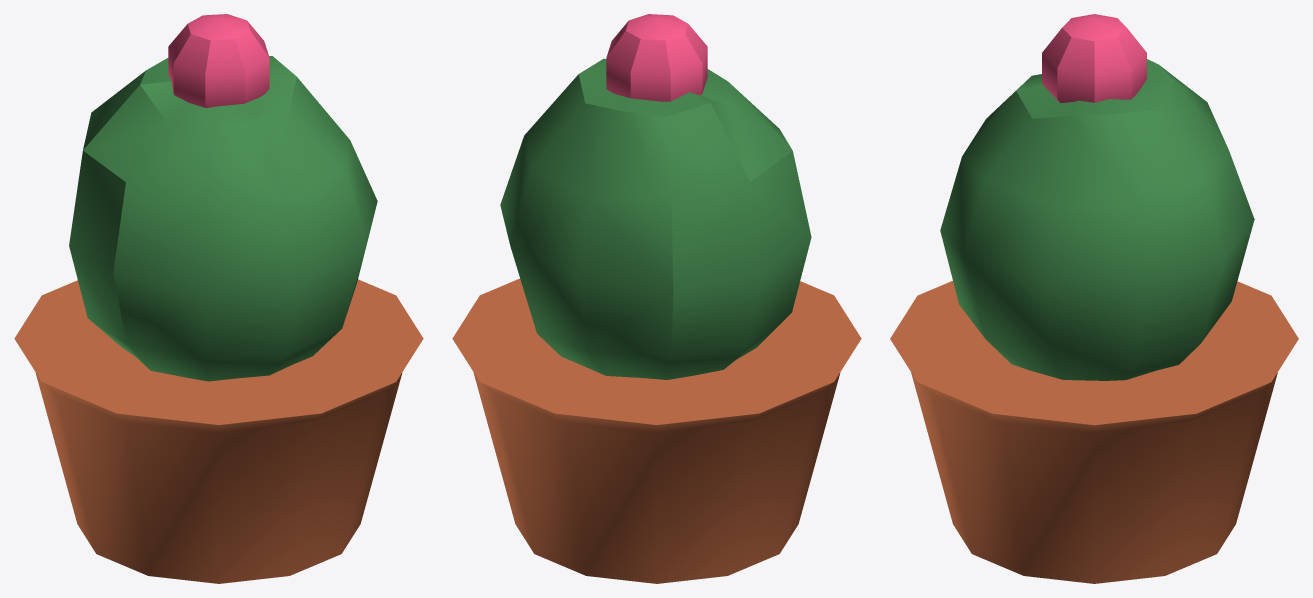
File: RailDesert.fbx
3 views of the same model, side by side, from view 1: azimuth 30°, elevation 25°; view 2: azimuth 150°, elevation 25°; view 3: azimuth 270°, elevation 25° (orthographic).
Parts seen in each view (by area): view 1: RailDesert; view 2: RailDesert; view 3: RailDesert.
Boxes of the visible parts, box(x1,y1,x2,y2) form: RailDesert: box(14, 14, 423, 583); RailDesert: box(452, 14, 861, 583); RailDesert: box(890, 14, 1298, 583).
Size of the model in its own units: 130 by 177 by 130.
